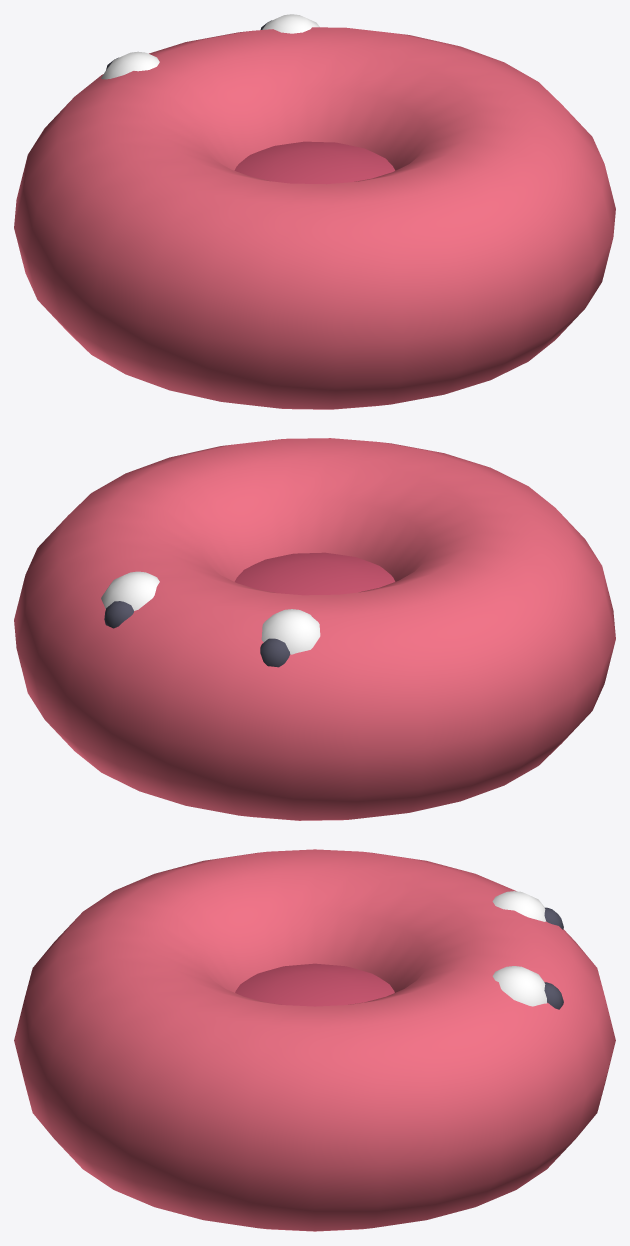
Rendered from rbc.glb.
3 views of the same model, one above another, from view 1: azimuth 30°, elevation 25°; view 2: azimuth 150°, elevation 25°; view 3: azimuth 270°, elevation 25° (orthographic).
Visible parts, largest first — view 1: rbc; view 2: rbc; view 3: rbc.
Boxes of the visible parts, left/top/right/bottom form: rbc: left=14, top=14, right=615, bottom=409; rbc: left=14, top=438, right=615, bottom=820; rbc: left=14, top=849, right=615, bottom=1231.
Bounding box in the file's own units: 1.36 × 0.5235 × 1.36.
